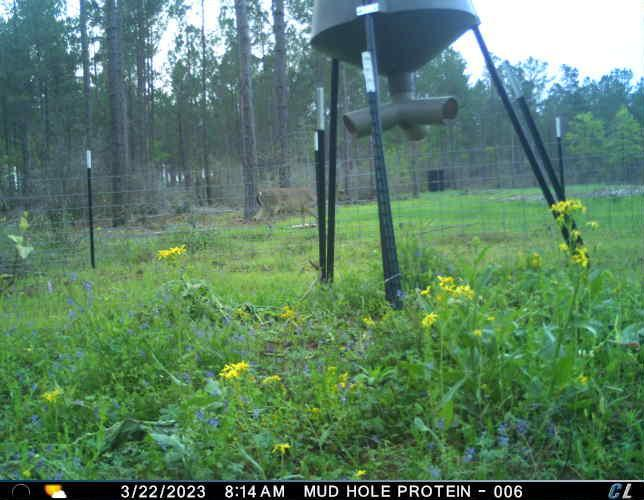Deer: (252, 183, 319, 241)
